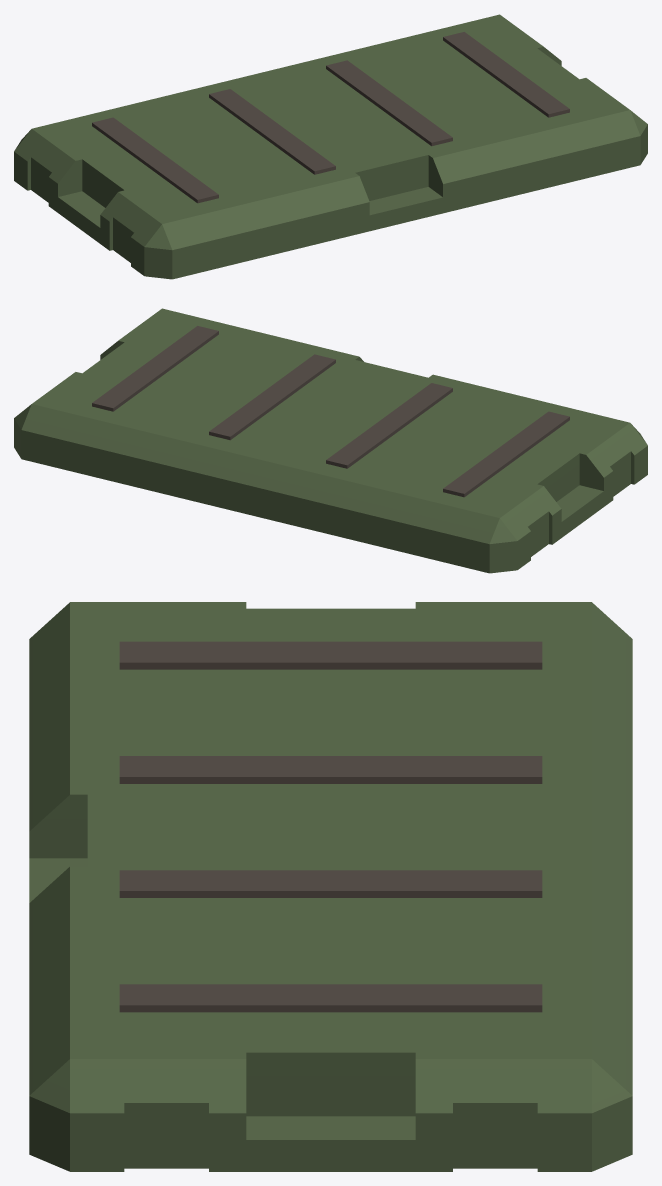
File: BigAmoBox_02_2.fbx
3 renders of one model, top to bottom at view 1: azimuth 30°, elevation 25°; view 2: azimuth 150°, elevation 25°; view 3: azimuth 270°, elevation 25°, orthographic. The views are drawn at different scales.
Visible parts, largest first — view 1: BigAmoBox_02_2; view 2: BigAmoBox_02_2; view 3: BigAmoBox_02_2.
Boxes of the visible parts, box(x1,y1,x2,y2) form: BigAmoBox_02_2: box(14, 14, 647, 279); BigAmoBox_02_2: box(14, 308, 647, 573); BigAmoBox_02_2: box(29, 602, 632, 1171).
Bounding box in the file's own units: 0.9434 × 0.0918 × 0.4897.
